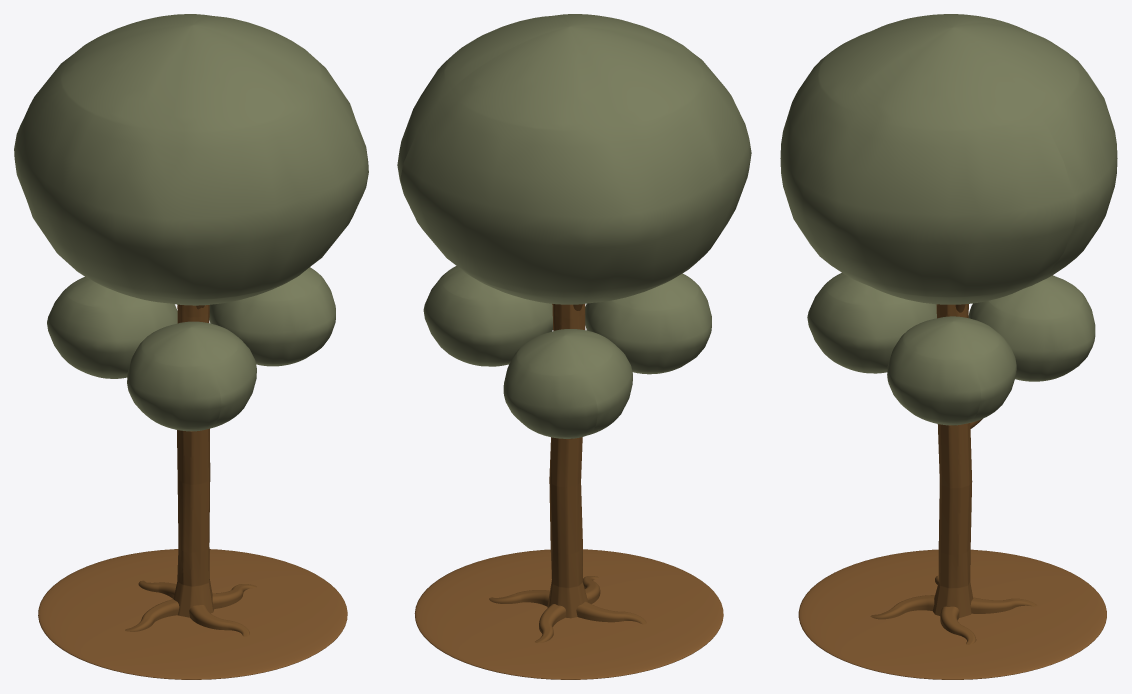
File: tree.glb
3 views of the same model, side by side, from view 1: azimuth 30°, elevation 25°; view 2: azimuth 150°, elevation 25°; view 3: azimuth 270°, elevation 25° (orthographic).
Parts seen in each view (by area): view 1: Leaves (×4), Ground, Trunk, Roots (×3); view 2: Leaves (×4), Ground, Trunk, Roots (×3); view 3: Leaves (×4), Ground, Trunk, Roots (×3).
Boxes of the visible parts, box(x1,y1,x2,y2) form: Leaves (×4): box(14, 14, 368, 431); Ground: box(38, 549, 347, 679); Trunk: box(173, 305, 213, 617); Roots (×3): box(125, 584, 256, 636); Leaves (×4): box(397, 14, 751, 438); Ground: box(414, 549, 723, 679); Trunk: box(547, 304, 588, 618); Roots (×3): box(489, 590, 646, 643); Leaves (×4): box(780, 14, 1117, 425); Ground: box(798, 549, 1106, 679); Trunk: box(932, 304, 973, 617); Roots (×3): box(870, 595, 1037, 644).
Bounding box in the file's own units: 2.73 × 5.29 × 2.73.
